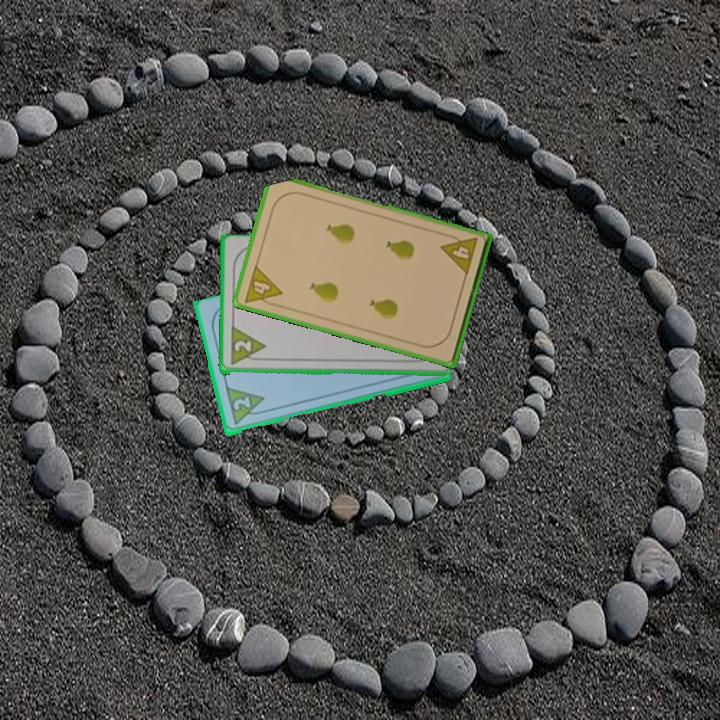2p: (227, 325, 268, 368), (229, 394, 253, 413)
4p: (241, 261, 285, 310), (437, 230, 480, 278)
